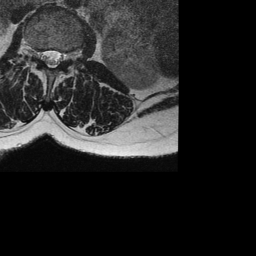CCS_normal: (48, 44, 55, 73)
LFS_normal: (63, 46, 70, 66)
LLS_normal: (55, 46, 62, 67)
RFS_normal: (33, 44, 41, 63)
RLS_normal: (41, 44, 48, 68)
